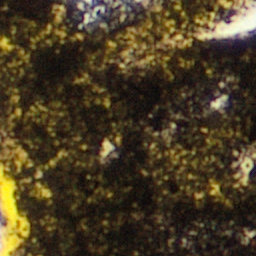cement_matrix: (0, 0, 255, 255), (237, 153, 254, 182), (167, 35, 186, 44), (212, 97, 224, 109), (102, 142, 112, 155), (16, 151, 24, 161), (1, 40, 8, 47), (40, 189, 45, 193)
cracks: (0, 158, 28, 255)
gravel_crushed_stones: (196, 0, 255, 39), (76, 0, 100, 22), (238, 154, 253, 181), (168, 36, 185, 43), (213, 98, 223, 108), (103, 143, 111, 154), (0, 226, 3, 255), (134, 0, 155, 3), (17, 152, 23, 160), (2, 41, 7, 46), (41, 190, 44, 192)
